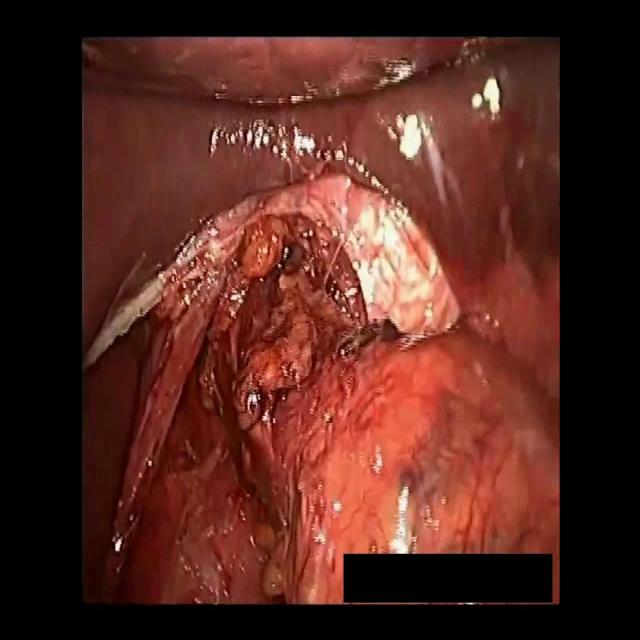surgical-area: (82, 38, 561, 604)
